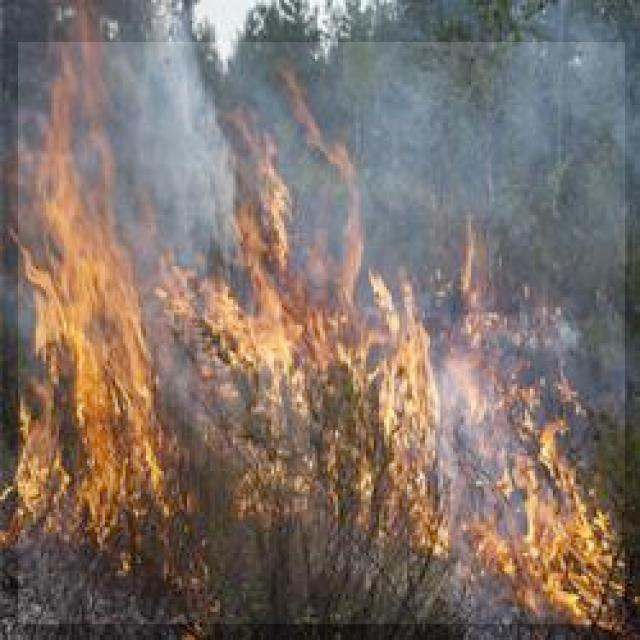Fire: (18, 42, 625, 624)
